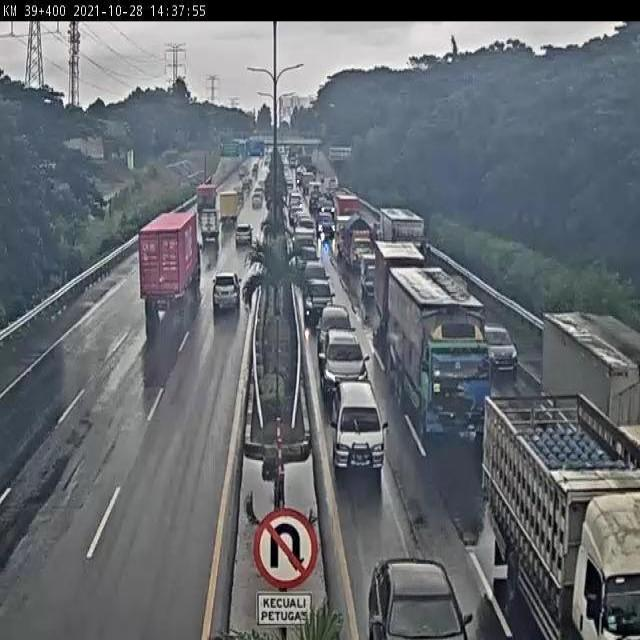ARABA: (482, 316, 521, 373), (200, 208, 222, 240)
KAMYONET: (219, 191, 239, 229)
TIR: (483, 390, 640, 640), (390, 267, 496, 445), (141, 215, 204, 316)
